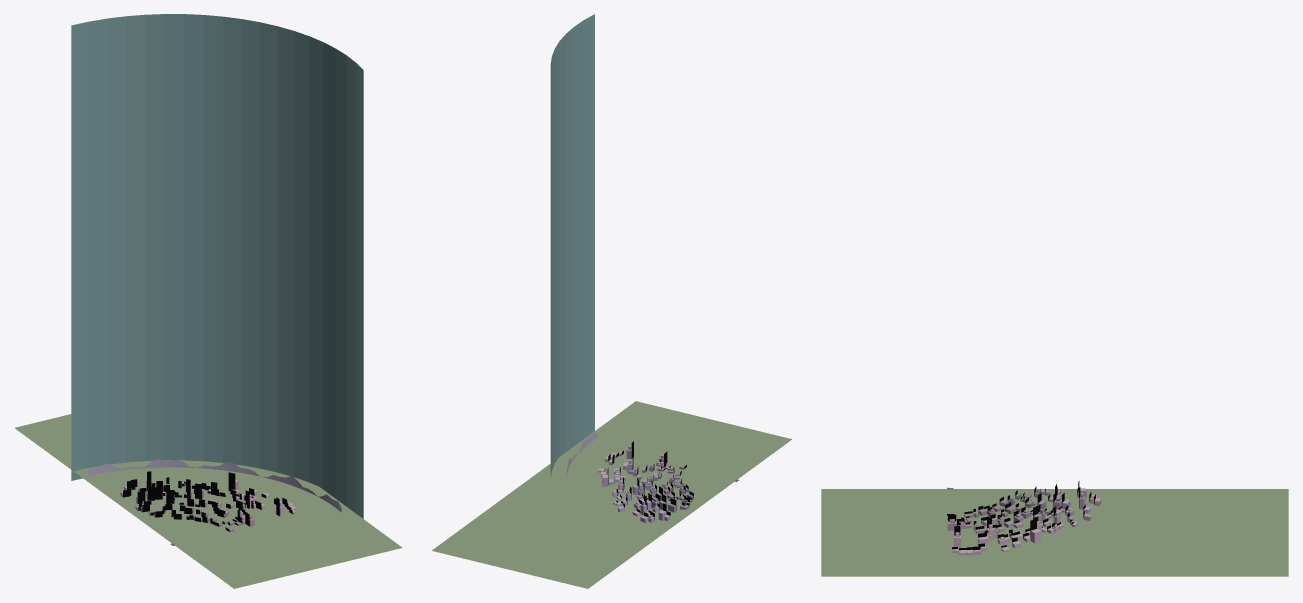
File: desk_scene_draco.glb
3 views of the same model, side by side, from view 1: azimuth 30°, elevation 25°; view 2: azimuth 150°, elevation 25°; view 3: azimuth 270°, elevation 25° (orthographic). The views are drawn at different scales.
Visible parts, largest first — view 1: Env_WindowSky, Env_Outside_Ground, Env_Outside_CityLights, Env_Outside_Skyline, Env_Outside_Hills; view 2: Env_Outside_Ground, Env_WindowSky, Env_Outside_Skyline, Env_Outside_CityLights; view 3: Env_Outside_Ground, Env_Outside_Skyline, Env_Outside_CityLights.
Part boxes in pixels (left/top/right/bottom): Env_WindowSky: left=71, top=14, right=363, bottom=518; Env_Outside_Ground: left=15, top=414, right=402, bottom=588; Env_Outside_CityLights: left=123, top=471, right=292, bottom=531; Env_Outside_Skyline: left=120, top=478, right=296, bottom=532; Env_Outside_Hills: left=88, top=459, right=341, bottom=512; Env_Outside_Ground: left=431, top=401, right=791, bottom=588; Env_WindowSky: left=550, top=14, right=594, bottom=477; Env_Outside_Skyline: left=598, top=445, right=693, bottom=522; Env_Outside_CityLights: left=604, top=441, right=693, bottom=520; Env_Outside_Ground: left=821, top=489, right=1288, bottom=576; Env_Outside_Skyline: left=947, top=488, right=1101, bottom=555; Env_Outside_CityLights: left=947, top=481, right=1095, bottom=550.
Size of the model in its own units: 1203 by 2975 by 2600.
